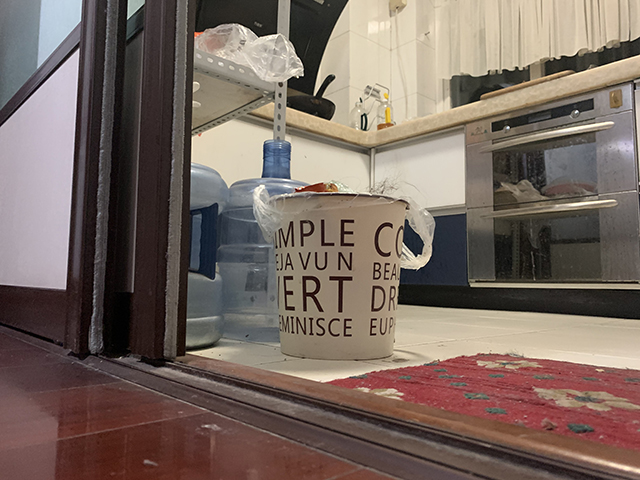cabinet: (407, 57, 640, 321)
carpet: (323, 351, 640, 456)
trashcan: (265, 190, 412, 362)
